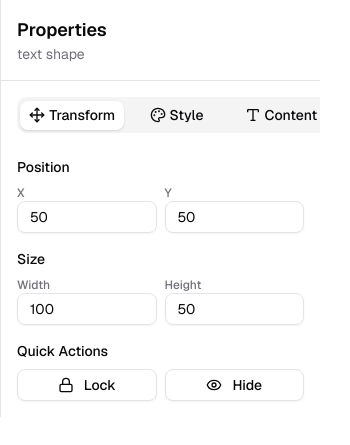
PropertyPanel › Content Tab › shows text content for text shapes
Click the tab "Content". click: (281, 115)
box: [229, 100, 333, 130]
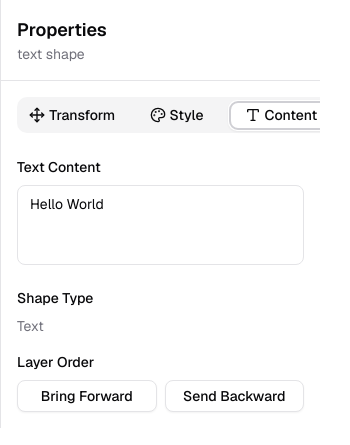
Check: the text "Text Content" is shown, box [17, 158, 101, 176]
Check: the text box labelled "Text Content" holds "Hello World", box [17, 185, 304, 265]
